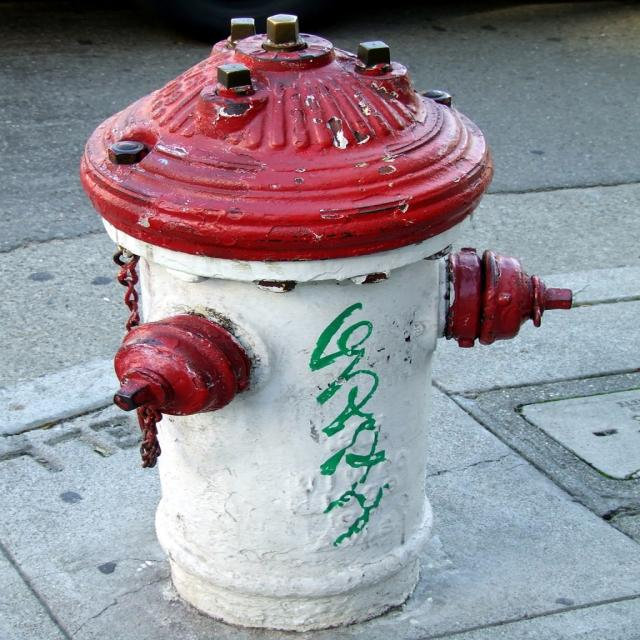fire_hydrant: (79, 14, 571, 629)
